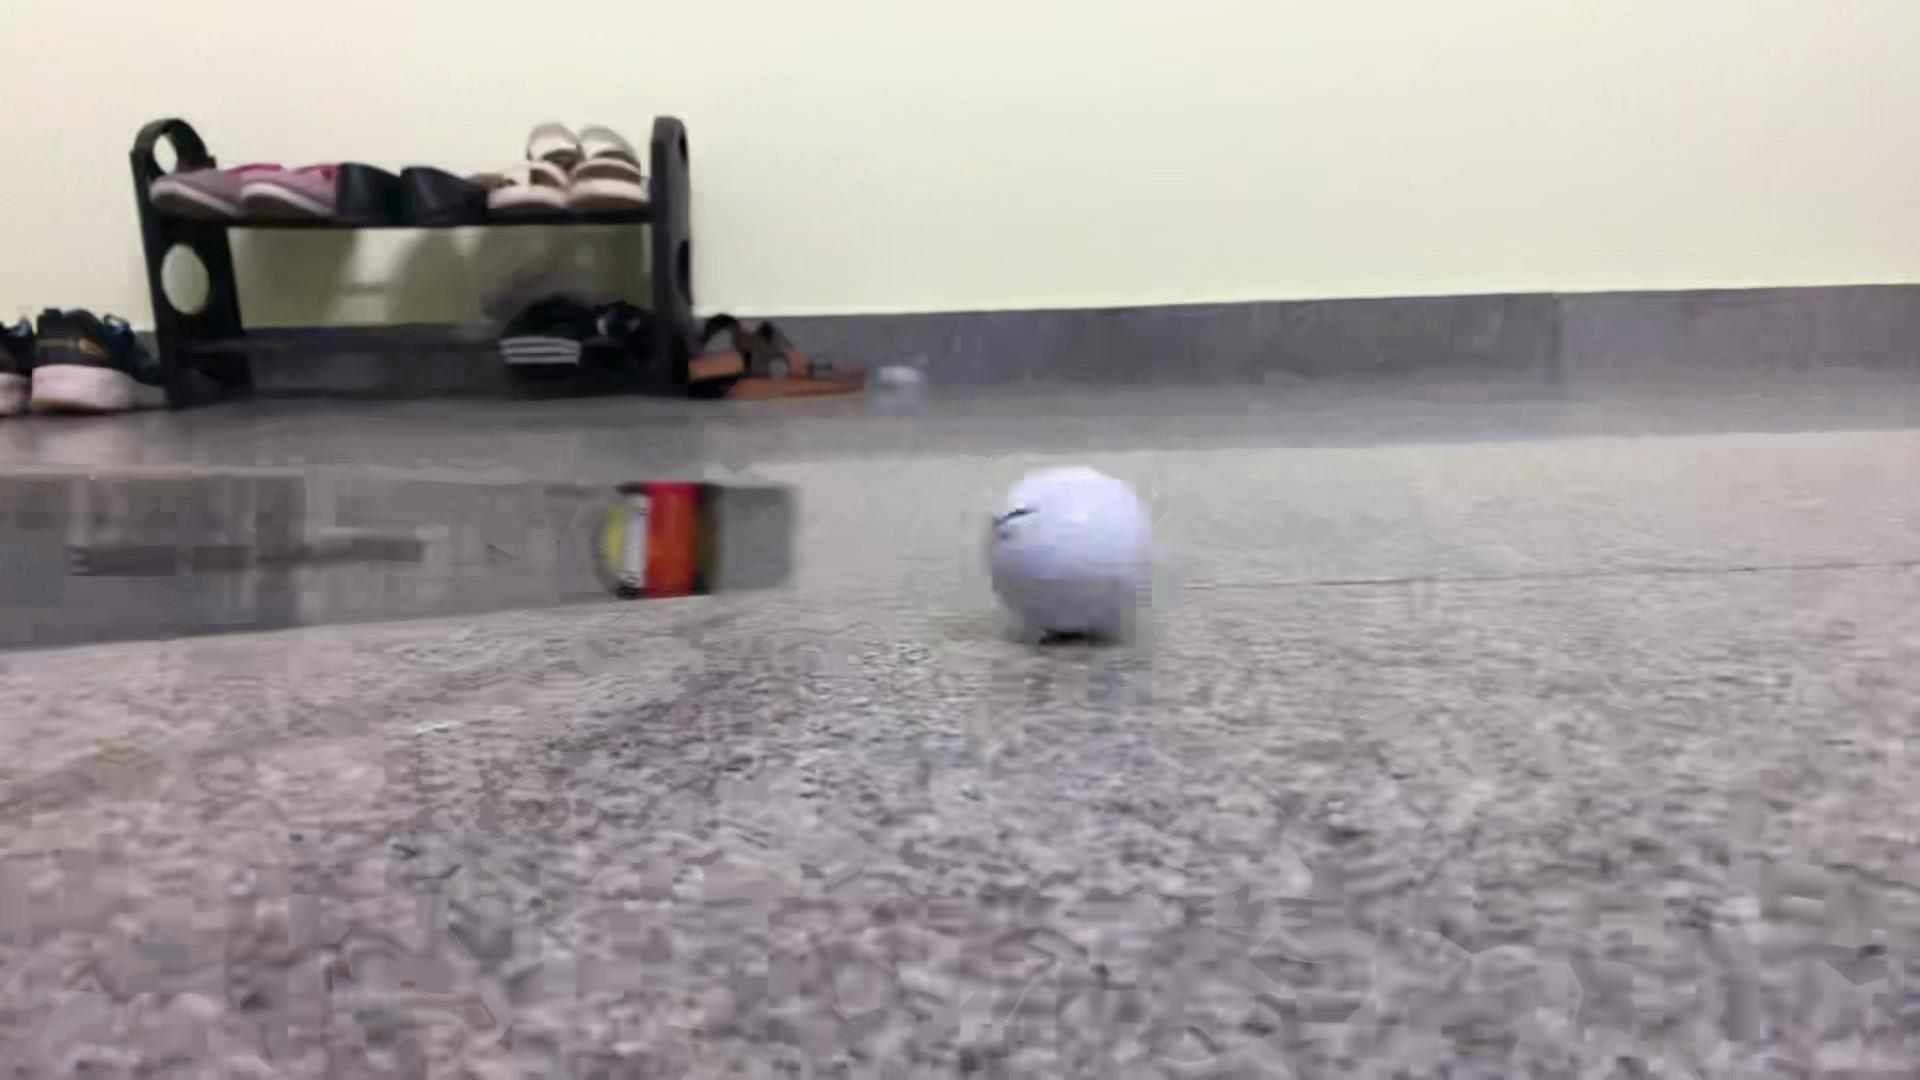golfball: (986, 467, 1159, 637)
